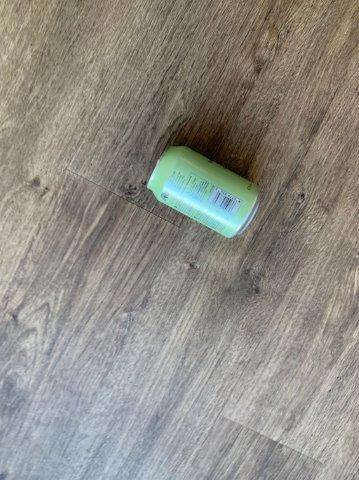kaleng: (149, 147, 258, 237)
